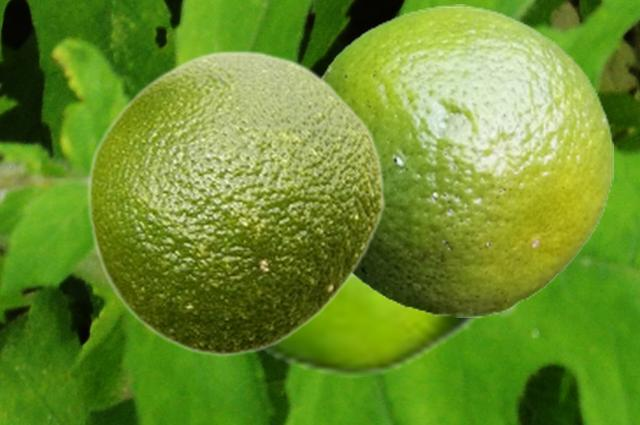calamansi: (86, 49, 384, 357), (319, 4, 612, 316), (253, 277, 529, 377)
